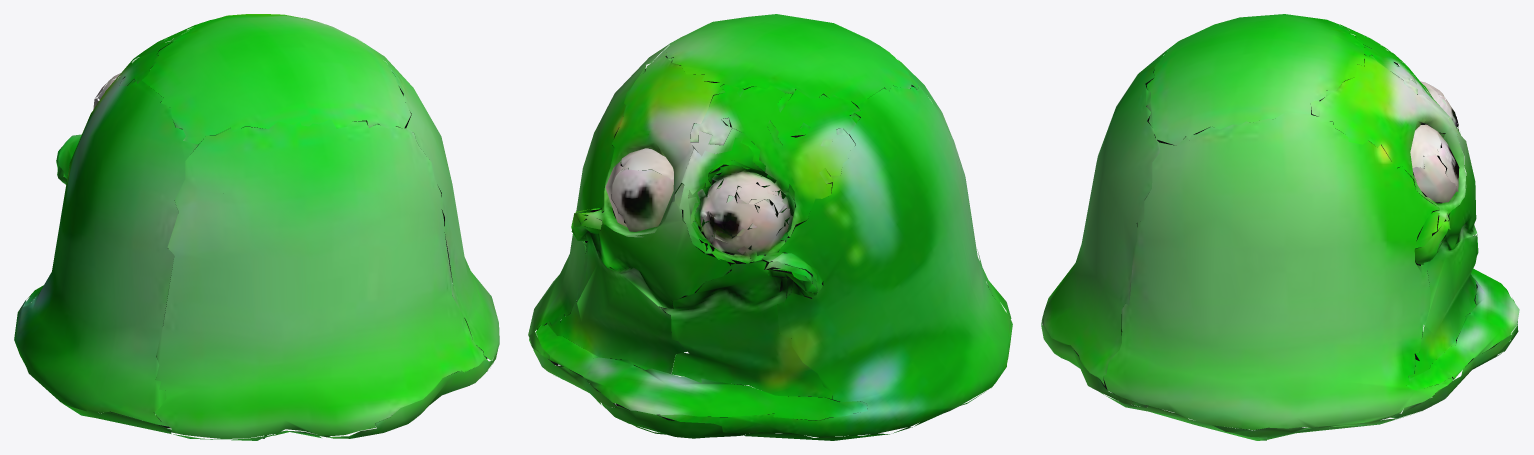
Rendered from slime.glb.
3 views of the same model, side by side, from view 1: azimuth 30°, elevation 25°; view 2: azimuth 150°, elevation 25°; view 3: azimuth 270°, elevation 25° (orthographic). The views are drawn at different scales.
Parts seen in each view (by area): view 1: geometry_0; view 2: geometry_0; view 3: geometry_0.
Boxes of the visible parts, bbox=[...] form: geometry_0: bbox=[14, 14, 499, 440]; geometry_0: bbox=[528, 14, 1012, 440]; geometry_0: bbox=[1041, 14, 1519, 440].
Size of the model in its own units: 0.9939 by 0.7403 by 1.
1 material, 1 textured.
